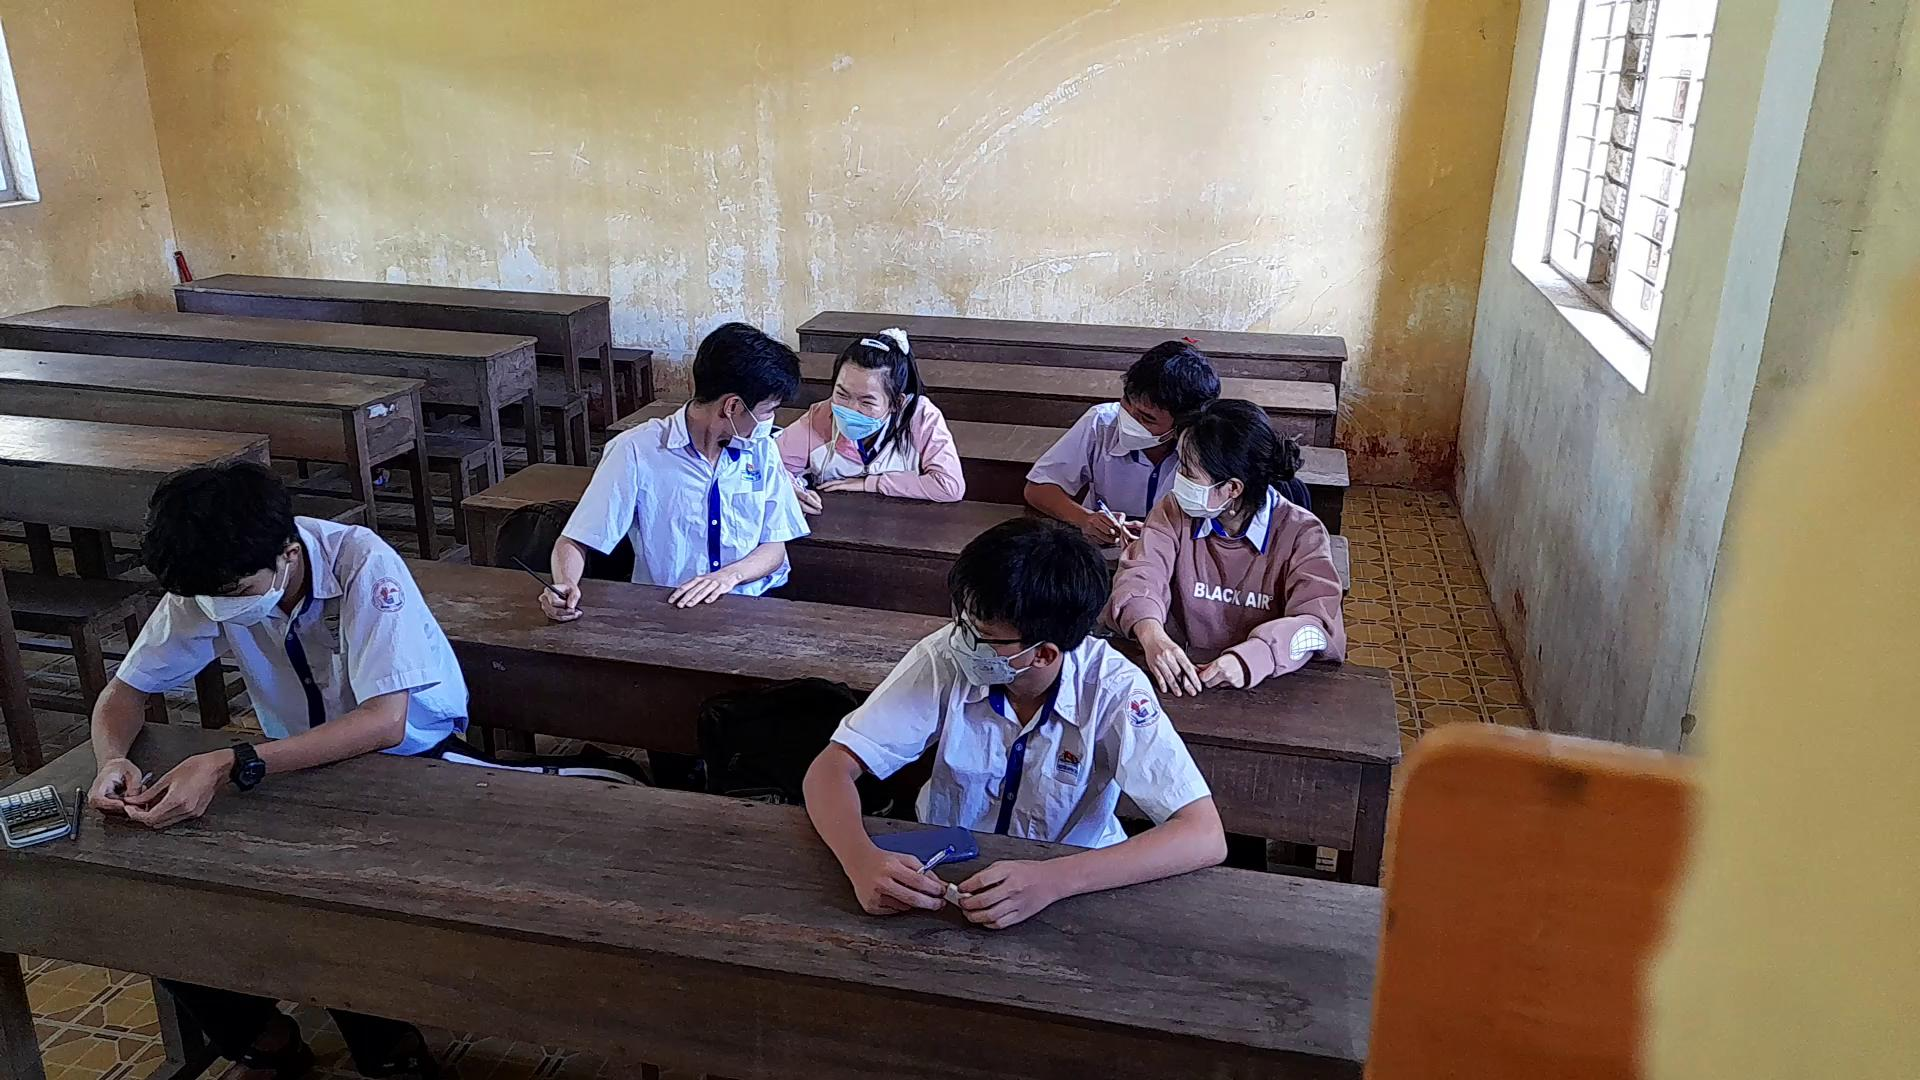Look Around: (935, 498, 1114, 694), (1087, 314, 1221, 459), (1154, 388, 1288, 533), (674, 313, 808, 458)
Normal: (80, 455, 476, 832)
